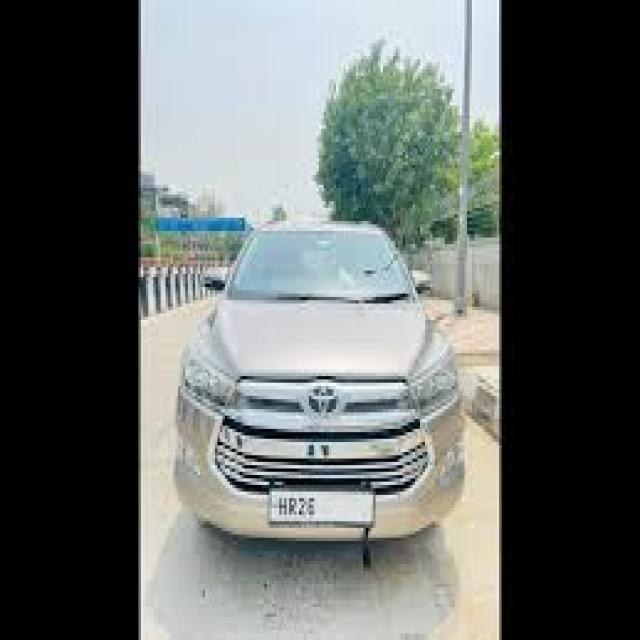light_vehicle: (174, 223, 465, 542)
